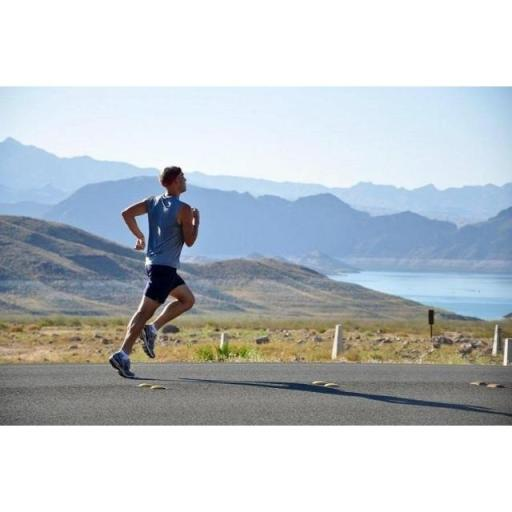Running: (102, 157, 212, 384)
